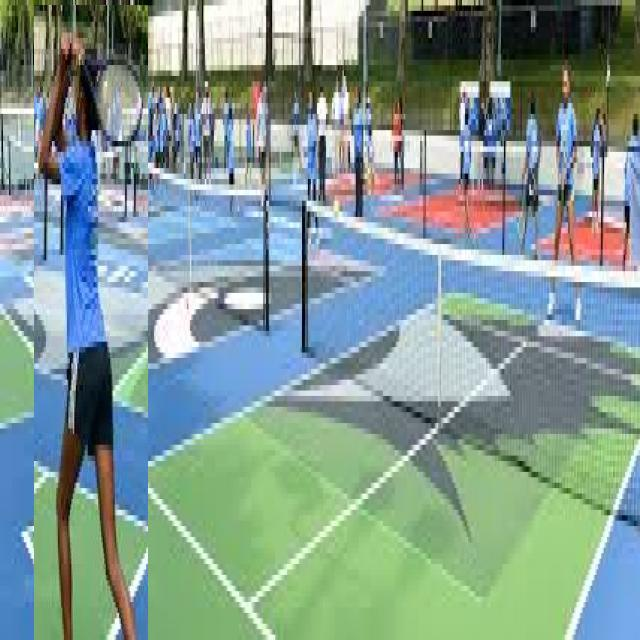net: (300, 179, 640, 531)
player: (34, 5, 148, 640)
